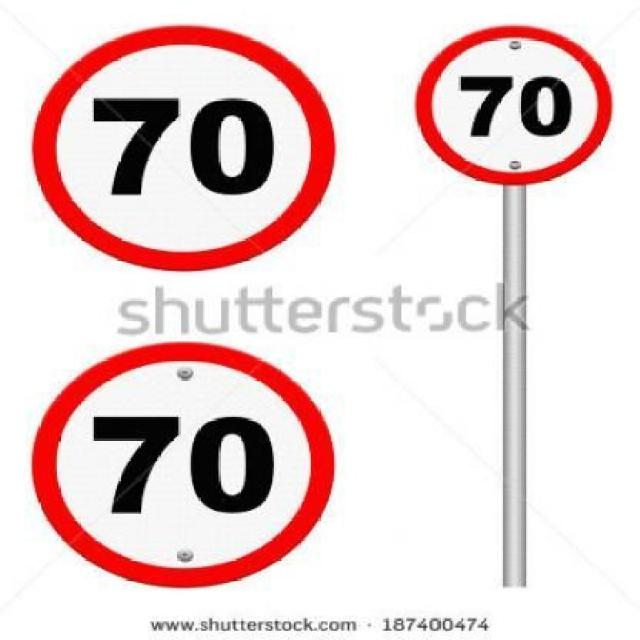forb_speed_over_70: (34, 342, 332, 587), (41, 27, 338, 268), (415, 25, 612, 185)
